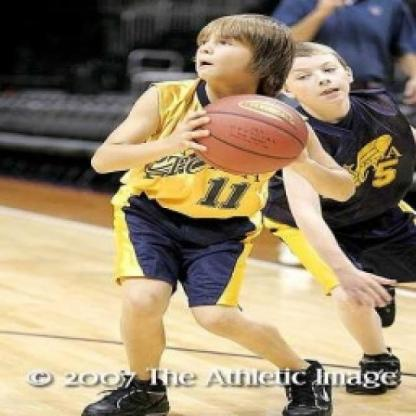basketball: (198, 93, 310, 173)
